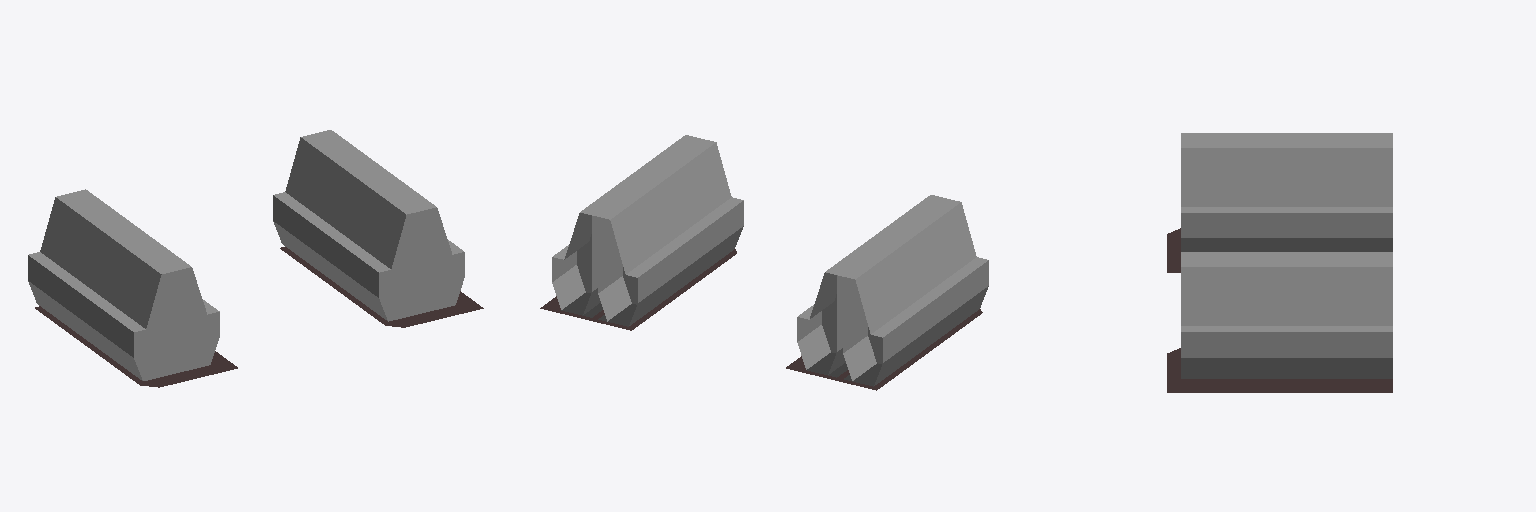
The picture shows the model from 3 angles: view 1: azimuth 30°, elevation 25°; view 2: azimuth 150°, elevation 25°; view 3: azimuth 270°, elevation 25°; orthographic projection.
Parts seen in each view (by area): view 1: polygon11.001_polygon11.002; view 2: polygon11.001_polygon11.002; view 3: polygon11.001_polygon11.002.
Part boxes in pixels (x1,y1,x2,y2): polygon11.001_polygon11.002: (28,130,483,387); polygon11.001_polygon11.002: (540,135,988,390); polygon11.001_polygon11.002: (1167,133,1392,392).
Bounding box in the file's own units: 3.5 × 1.03 × 2.
Materials: 6 (1 with a texture image).